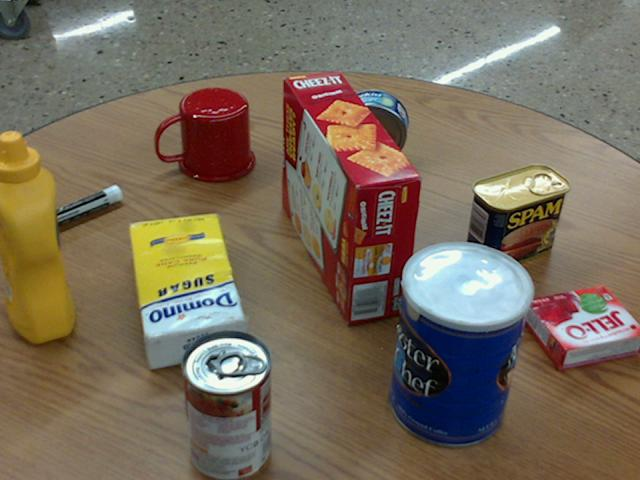cracker_box: (283, 72, 420, 323)
gelatin_box: (524, 284, 639, 368)
large_marker: (17, 184, 121, 238)
master_chef_can: (389, 242, 532, 447)
mug: (155, 88, 254, 182)
mustard_bottle: (0, 131, 73, 340)
potted_meat_can: (466, 164, 569, 270)
sugar_box: (128, 212, 245, 367)
tomato_soup_can: (179, 330, 269, 479)
tuna_fish_can: (335, 90, 406, 163)
